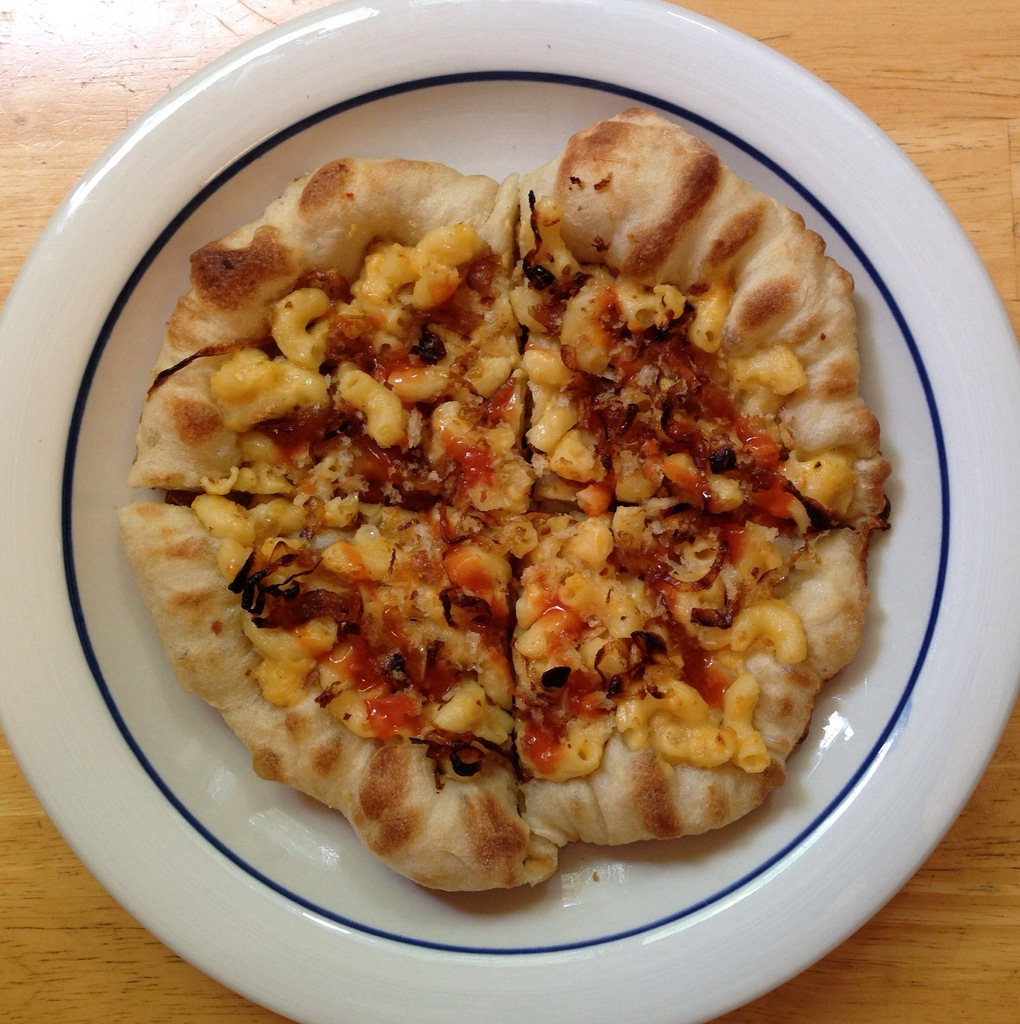Pizza: (106, 100, 904, 894)
